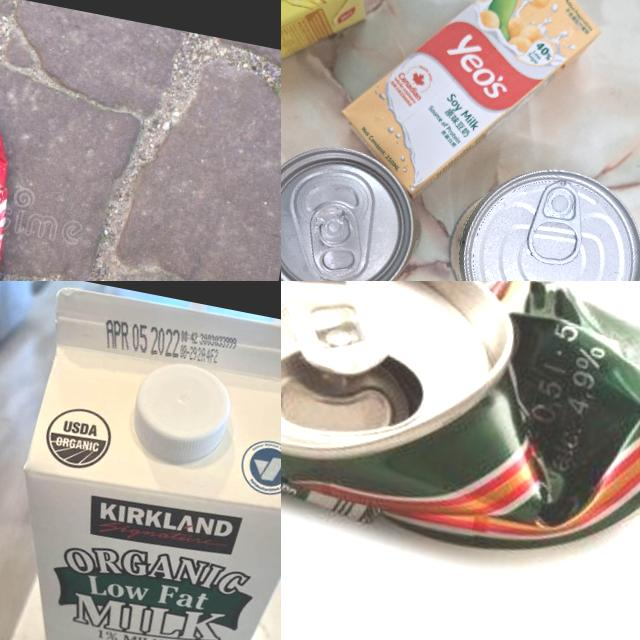aba de lata: (281, 281, 407, 382), (524, 178, 593, 270), (300, 199, 376, 281)
caixinha: (0, 281, 281, 640), (330, 0, 613, 224), (281, 0, 386, 121)
lata: (281, 281, 640, 594), (429, 153, 640, 281), (281, 131, 432, 281)
tampa plástica: (125, 356, 239, 474)
